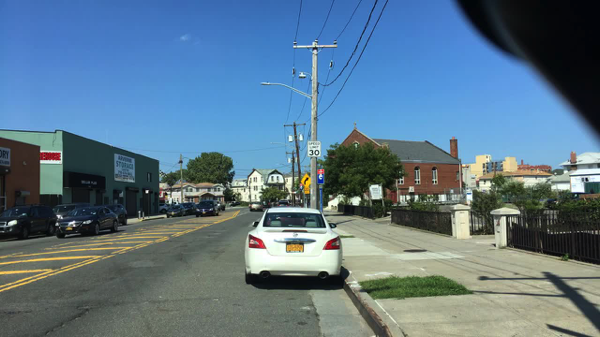car: (243, 207, 342, 286), (55, 207, 119, 240), (0, 205, 57, 242), (52, 204, 95, 227), (542, 192, 589, 210), (101, 205, 128, 226), (196, 201, 220, 218), (167, 205, 185, 219), (180, 202, 197, 215), (250, 201, 263, 213), (158, 203, 169, 214), (278, 200, 291, 208), (229, 200, 240, 207), (262, 199, 271, 207), (272, 200, 279, 208), (279, 198, 289, 203), (167, 204, 174, 210), (170, 202, 178, 206)
traffic light: (165, 195, 168, 199)
traffic sign: (307, 141, 319, 157), (371, 185, 383, 201), (301, 173, 310, 187), (317, 170, 325, 185), (303, 187, 309, 195), (408, 185, 414, 191), (318, 164, 324, 169), (449, 189, 454, 193)
truck: (216, 199, 227, 211)
